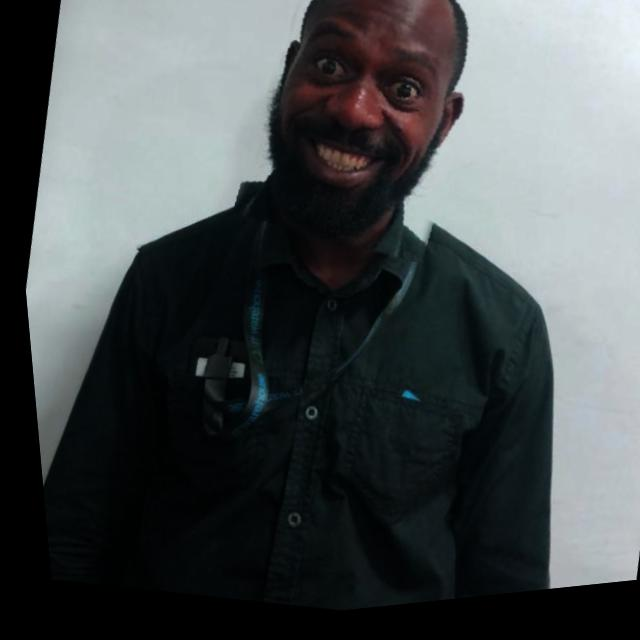happy: (216, 0, 507, 285)
